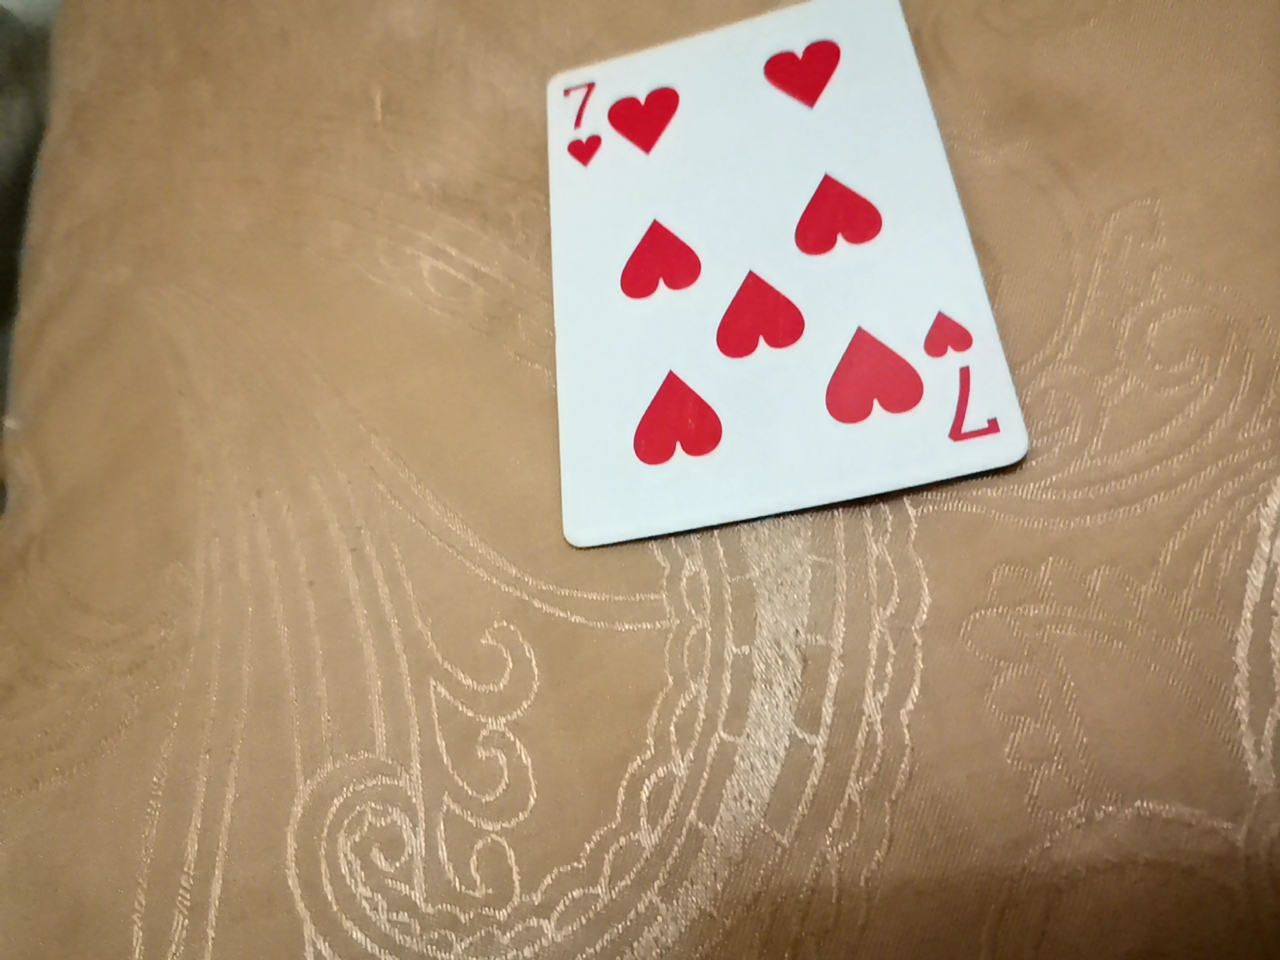hx 7: (528, 6, 1015, 571)
